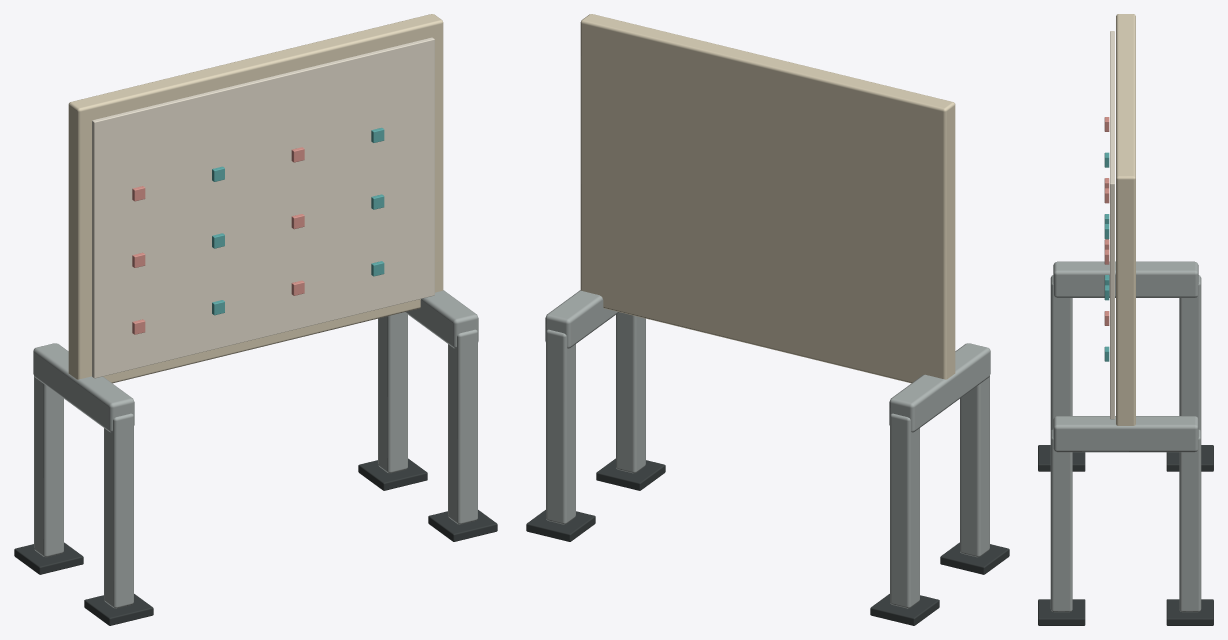
The model's file is indoor-climbing-and-bouldering-gym-indoor-climbing-and-fbff159f__31559.glb.
3 views of the same model, side by side, from view 1: azimuth 30°, elevation 25°; view 2: azimuth 150°, elevation 25°; view 3: azimuth 270°, elevation 25° (orthographic). The views are drawn at different scales.
Parts seen in each view (by area): view 1: indoor-climbing-and-bouldering-gym-route-setting-plan-board_ (×6); view 2: indoor-climbing-and-bouldering-gym-route-setting-plan-board_ (×3); view 3: indoor-climbing-and-bouldering-gym-route-setting-plan-board_ (×6).
Part boxes in pixels (left/top/right/bottom): indoor-climbing-and-bouldering-gym-route-setting-plan-board_ (×6): left=14, top=14, right=497, bottom=625; indoor-climbing-and-bouldering-gym-route-setting-plan-board_ (×3): left=526, top=14, right=1009, bottom=625; indoor-climbing-and-bouldering-gym-route-setting-plan-board_ (×6): left=1038, top=14, right=1213, bottom=625.
Bounding box in the file's own units: 1.22 × 1.45 × 0.52.
